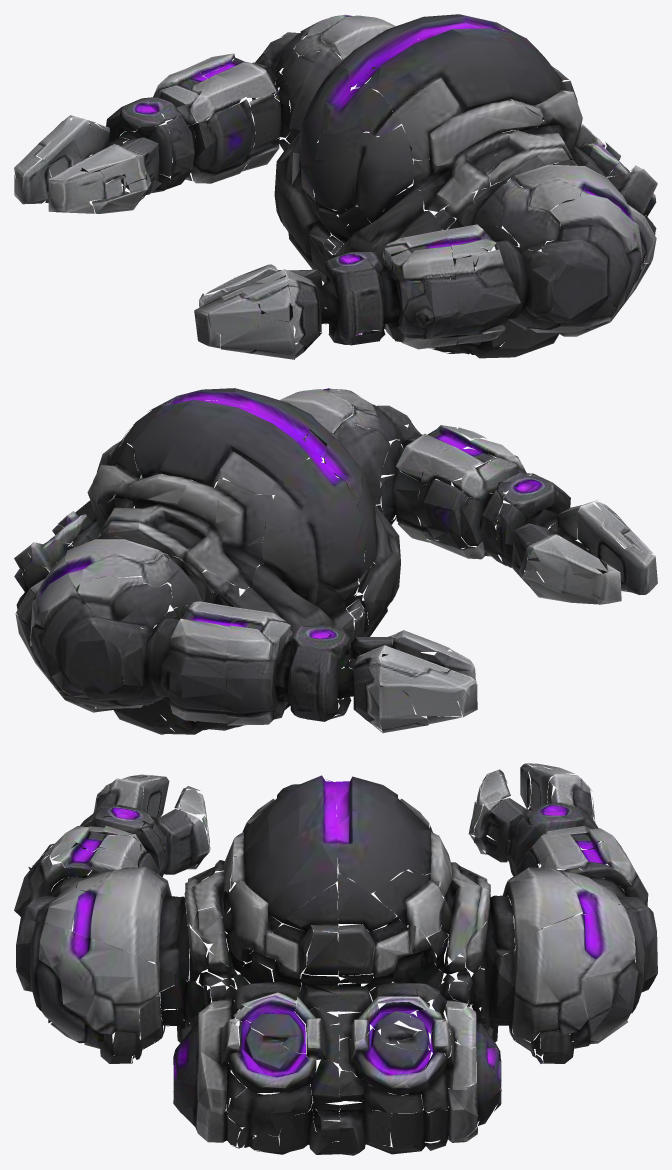
The model's file is operator-warrior.glb.
The picture shows the model from 3 angles, top to bottom: view 1: azimuth 30°, elevation 25°; view 2: azimuth 150°, elevation 25°; view 3: azimuth 270°, elevation 25°; orthographic projection. The views are drawn at different scales.
Visible parts, largest first — view 1: operator-warrior-body; view 2: operator-warrior-body; view 3: operator-warrior-body.
Boxes of the visible parts, left/top/right/bottom form: operator-warrior-body: left=14, top=14, right=657, bottom=359; operator-warrior-body: left=14, top=388, right=657, bottom=734; operator-warrior-body: left=14, top=763, right=657, bottom=1155.
Bounding box in the file's own units: 0.9652 × 0.5456 × 0.9996.
1 material, 1 textured.
